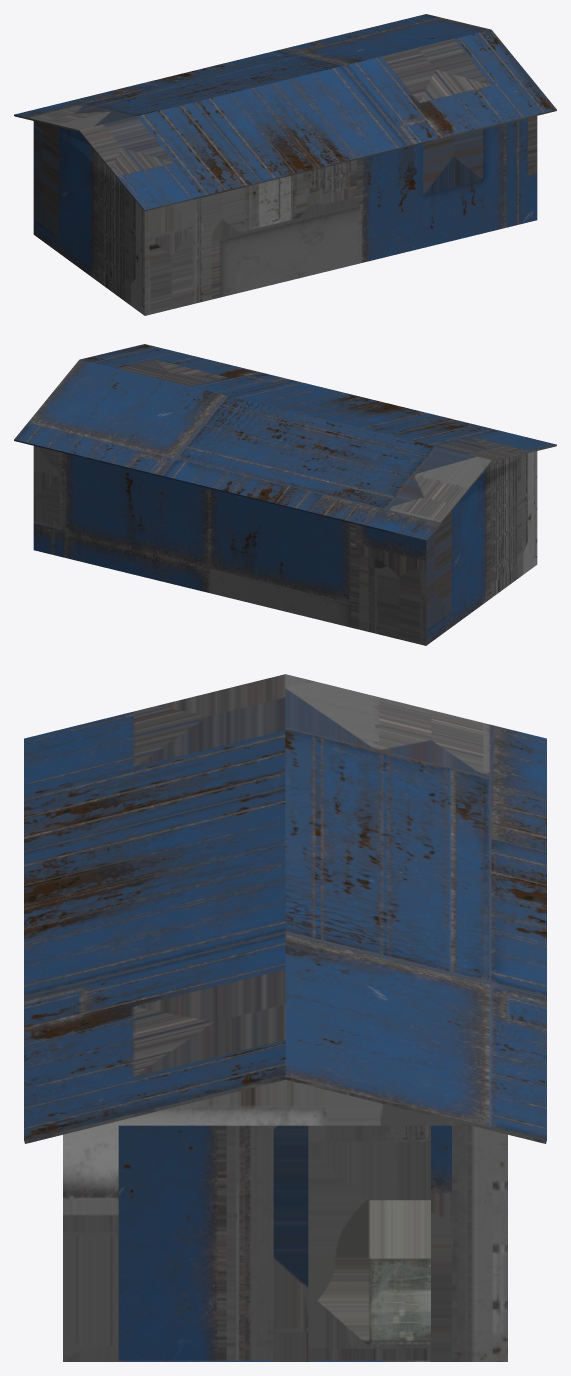
File: Sheds_06.fbx
The picture shows the model from 3 angles, top to bottom: view 1: azimuth 30°, elevation 25°; view 2: azimuth 150°, elevation 25°; view 3: azimuth 270°, elevation 25°; orthographic projection. The views are drawn at different scales.
Parts seen in each view (by area): view 1: Cube_073; view 2: Cube_073; view 3: Cube_073, Door_L, Door_R.
Boxes of the visible parts, x1,y1,x2,y2 form: Cube_073: (14, 14, 556, 315); Cube_073: (14, 344, 556, 645); Cube_073: (24, 674, 546, 1361); Door_L: (118, 1125, 273, 1360); Door_R: (308, 1125, 430, 1360).
Bounding box in the file's own units: 1055 × 361 × 579.
